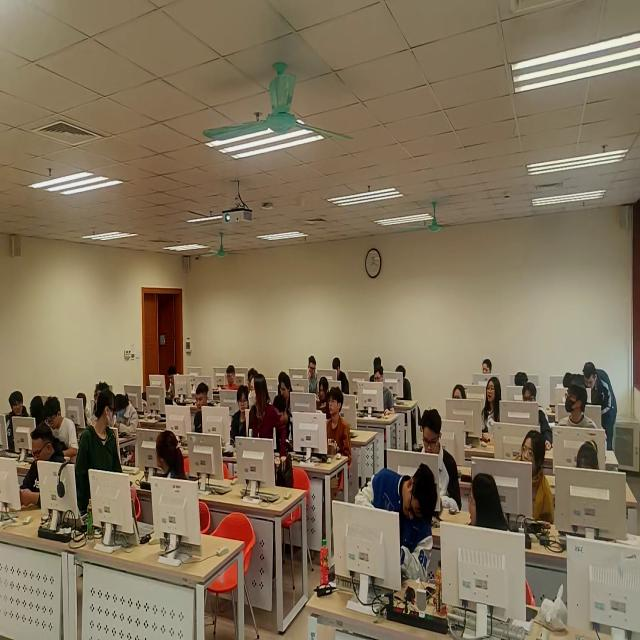raise_head: (519, 427, 557, 527), (326, 384, 351, 460), (482, 374, 505, 444), (229, 381, 249, 443), (451, 381, 468, 405), (483, 354, 494, 378)
stand: (77, 386, 125, 531), (247, 370, 291, 486), (584, 357, 618, 454)
using_computer: (422, 408, 461, 512), (520, 381, 554, 455), (46, 395, 79, 463), (275, 391, 295, 455), (575, 433, 603, 478), (117, 393, 143, 440), (192, 379, 212, 436), (372, 366, 395, 415), (331, 354, 350, 392), (398, 362, 413, 404), (166, 365, 181, 404), (308, 354, 321, 396), (29, 393, 45, 425), (281, 371, 295, 402), (222, 365, 237, 391), (515, 367, 528, 392), (560, 370, 573, 389), (374, 353, 381, 369)
using_phone: (19, 421, 68, 514)
